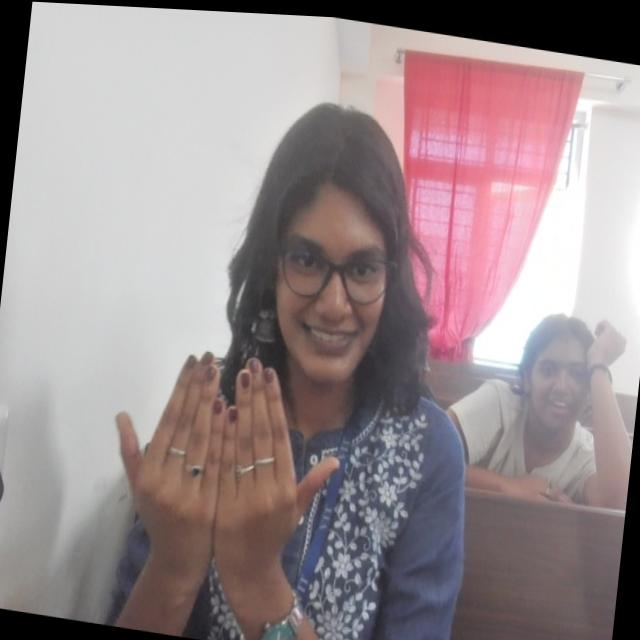thankyou: (97, 331, 351, 584)
